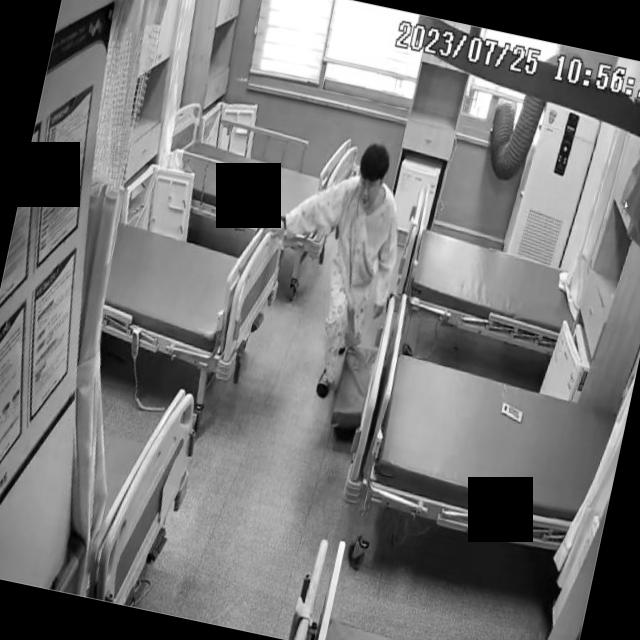bed: (358, 343, 622, 562), (90, 180, 295, 388), (153, 99, 359, 256), (390, 200, 592, 356)
danger: (230, 123, 430, 410)
patient: (230, 122, 428, 409)
